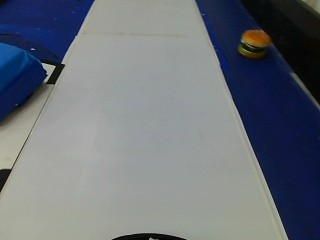burger: (234, 26, 271, 61)
